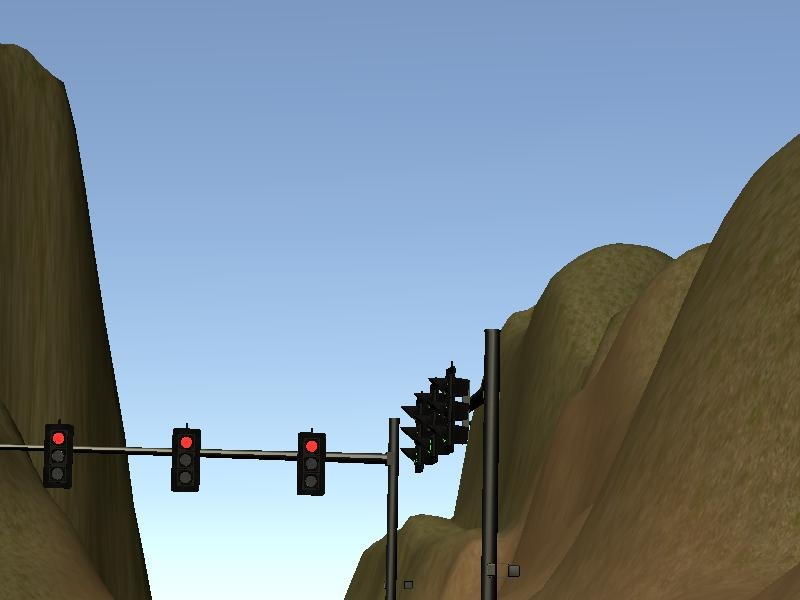red: (167, 421, 205, 496), (293, 424, 328, 499), (40, 419, 76, 488)
